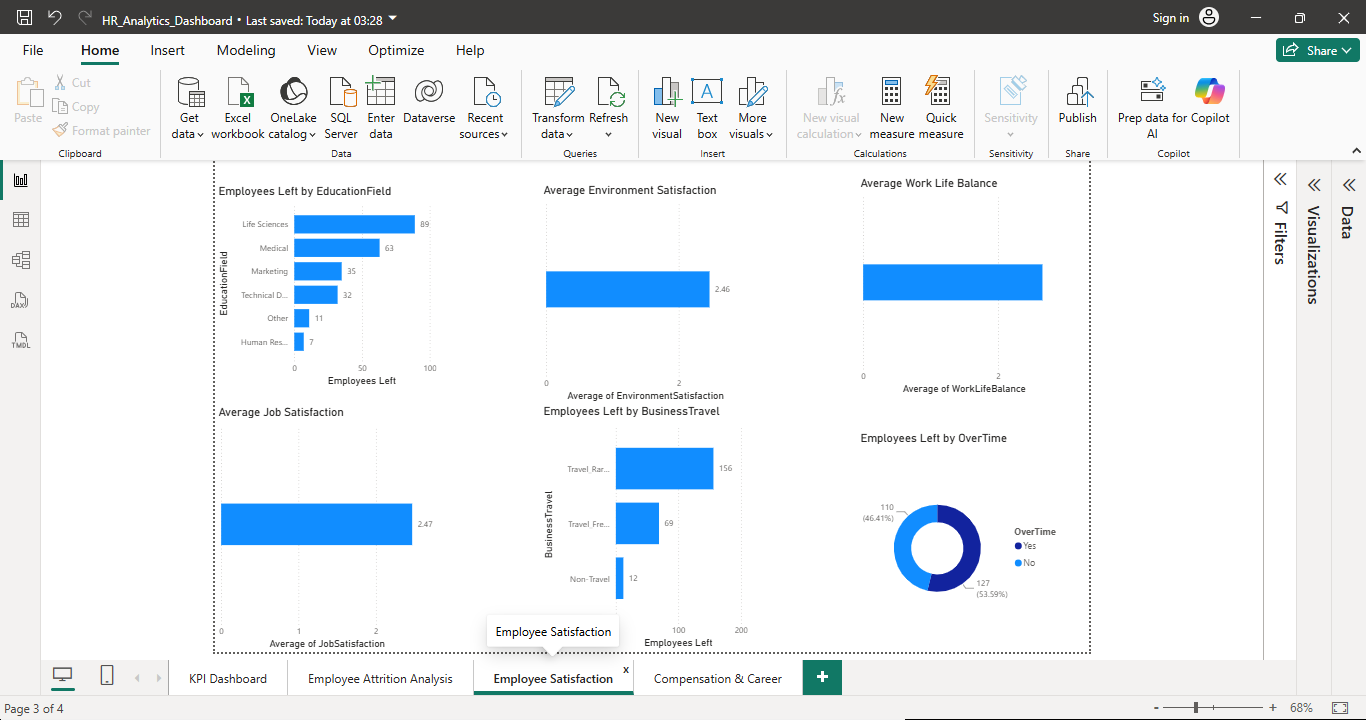

This screenshot's page, from the dashboard's own definition file:
{"tool":"powerbi","page":{"name":"Employee Satisfaction","canvas":[1280,720],"ordinal":2},"visuals":[{"type":"clusteredBarChart","fields":{"Y":["WA_Fn-UseC_-HR-Employee-Attriti.Employees Left"],"Category":["WA_Fn-UseC_-HR-Employee-Attriti.EducationField"]},"box":[0,35.3,329.2,300.7],"z":0},{"type":"clusteredBarChart","title":"Average Job Satisfaction","fields":{"Y":["Avg(WA_Fn-UseC_-HR-Employee-Attriti.JobSatisfaction)"]},"box":[0,358.4,328.5,362.7],"z":1000},{"type":"clusteredBarChart","title":"Average Environment Satisfaction","fields":{"Y":["Avg(WA_Fn-UseC_-HR-Employee-Attriti.EnvironmentSatisfaction)"]},"box":[475.4,33.6,309.1,324.2],"z":2000},{"type":"clusteredBarChart","title":"Average Work Life Balance","fields":{"Y":["Avg(WA_Fn-UseC_-HR-Employee-Attriti.WorkLifeBalance)"]},"box":[939,23.5,314.1,324.2],"z":3000},{"type":"donutChart","fields":{"Category":["WA_Fn-UseC_-HR-Employee-Attriti.OverTime"],"Y":["WA_Fn-UseC_-HR-Employee-Attriti.Employees Left"]},"box":[939,396.4,314.1,324.2],"z":4000},{"type":"clusteredBarChart","fields":{"Category":["WA_Fn-UseC_-HR-Employee-Attriti.BusinessTravel"],"Y":["WA_Fn-UseC_-HR-Employee-Attriti.Employees Left"]},"box":[475.4,357.8,309.1,362.8],"z":5000}]}

Visuals, with their boxes on the page's 1280x720 design canvas (x1, y1, x2, y2). These are canvas units, not pixel positions in the 1366x720 screenshot, which may show the page scaled, cropped or inside an application window:
clusteredBarChart - WA_Fn-UseC_-HR-Employee-Attriti.Employees Left x WA_Fn-UseC_-HR-Employee-Attriti.EducationField: 0/35/329/336
"Average Job Satisfaction" clusteredBarChart: 0/358/328/721
"Average Environment Satisfaction" clusteredBarChart: 475/34/784/358
"Average Work Life Balance" clusteredBarChart: 939/24/1253/348
donutChart - WA_Fn-UseC_-HR-Employee-Attriti.OverTime x WA_Fn-UseC_-HR-Employee-Attriti.Employees Left: 939/396/1253/721
clusteredBarChart - WA_Fn-UseC_-HR-Employee-Attriti.BusinessTravel x WA_Fn-UseC_-HR-Employee-Attriti.Employees Left: 475/358/784/721
